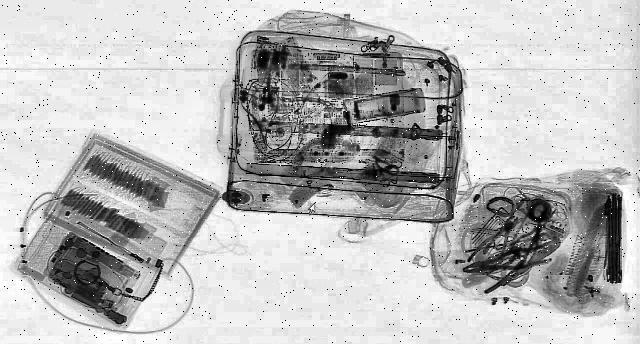Pliers: (452, 230, 578, 294), (452, 244, 554, 280), (466, 214, 530, 266)
